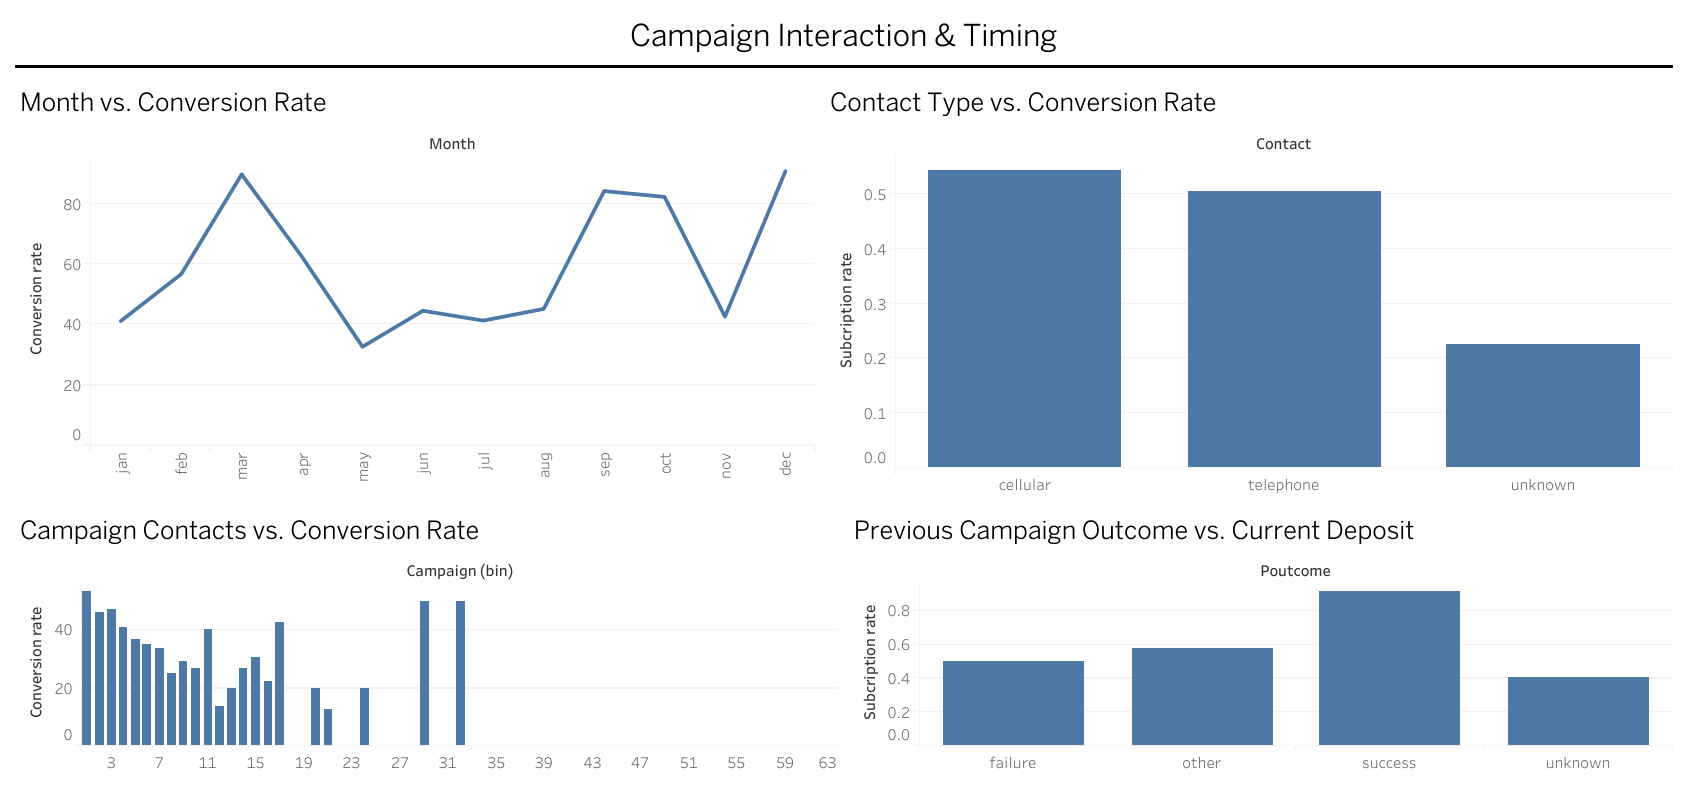

What the dashboard file says about the page in this screenshot:
{"tool":"tableau","page":{"name":"Campaign Interaction & Timing","canvas":[1000,1000],"units":"permille","ordinal":0},"visuals":[{"type":"title","box":[5.9,9.8,988.1,56.6]},{"type":"blank","box":[5.9,66.5,988.1,12.3]},{"type":"worksheet","title":"Month vs. Conversion Rate","mark":"Line","rows":["Calculation_1377820076811235331"],"cols":["month"],"box":[5.9,78.8,480,421.2]},{"type":"worksheet","title":"Contact Type vs. Conversion Rate","mark":"Automatic","rows":["Calculation_1377820076493996033"],"cols":["contact"],"box":[485.9,78.8,508.1,421.2]},{"type":"worksheet","title":"Campaign Contacts vs. Conversion Rate","mark":"Automatic","rows":["Calculation_1377820076811235331"],"cols":["Campaign (bin)"],"box":[5.9,500,494.1,490.2]},{"type":"worksheet","title":"Previous Campaign Outcome vs. Current Deposit","mark":"Automatic","rows":["Calculation_1377820076493996033"],"cols":["poutcome"],"box":[500,500,494.1,490.2]}]}

Visuals, with their boxes on the dashboard's canvas, which has no fixed pixel size, in thousandths of its width and height (x1, y1, x2, y2). These are canvas units, not pixel positions in the 1686x786 screenshot, which may show the page scaled, cropped or inside an application window:
title: box(6, 10, 994, 66)
blank: box(6, 66, 994, 79)
"Month vs. Conversion Rate" worksheet (Line marks): box(6, 79, 486, 500)
"Contact Type vs. Conversion Rate" worksheet: box(486, 79, 994, 500)
"Campaign Contacts vs. Conversion Rate" worksheet: box(6, 500, 500, 990)
"Previous Campaign Outcome vs. Current Deposit" worksheet: box(500, 500, 994, 990)
